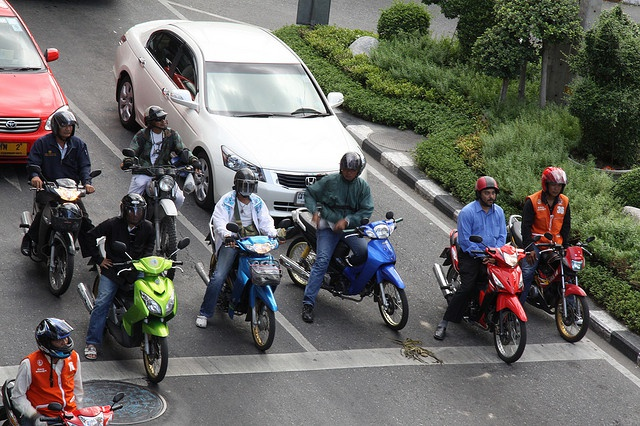non-vehicle: (76, 235, 190, 383), (278, 205, 408, 331), (432, 228, 541, 362), (193, 215, 291, 350), (505, 213, 595, 342), (120, 146, 204, 280), (19, 162, 101, 295), (0, 377, 126, 425)
